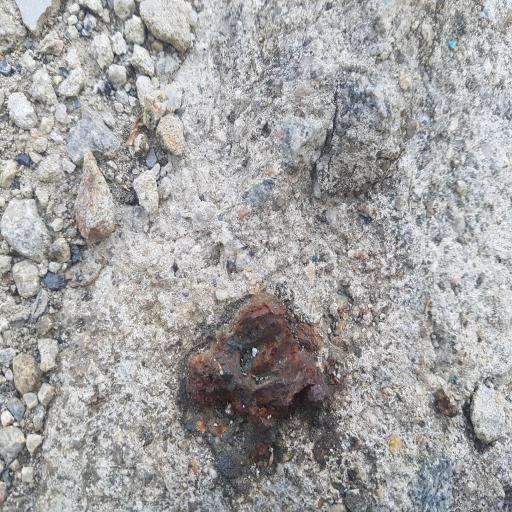exposed_rebar: (186, 293, 329, 421)
